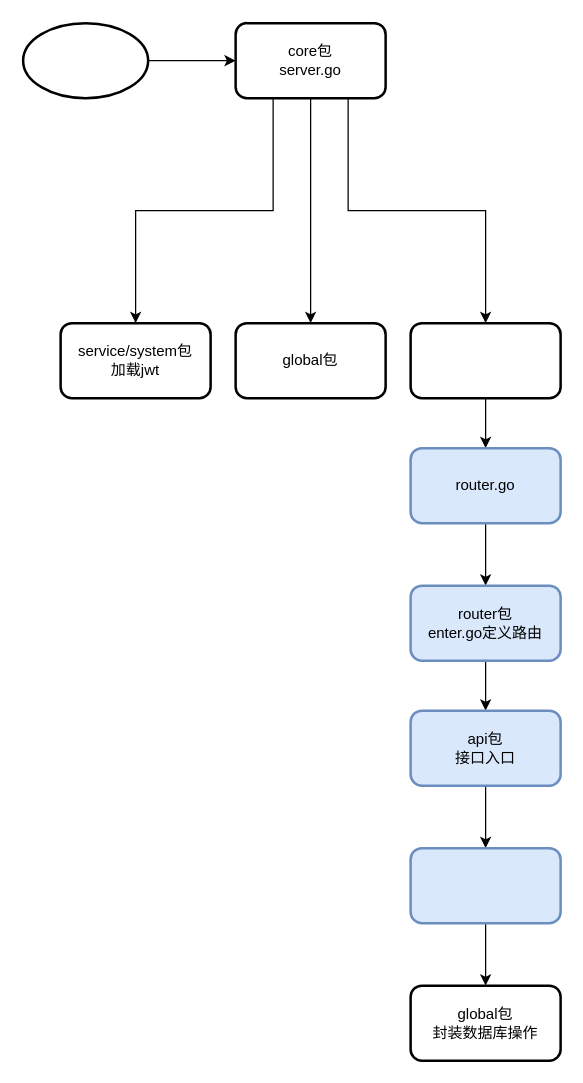
This 583x1083 diagram has some shape labels left out. The shapes that lost their labels are listed below. From the top down, each one's box as (x1, y1, x2, y2) in pixels, then its label:
(21, 21, 149, 99): main.go 初始化操作
(409, 321, 561, 399): initialize包
(409, 846, 561, 924): service包 业务实现
